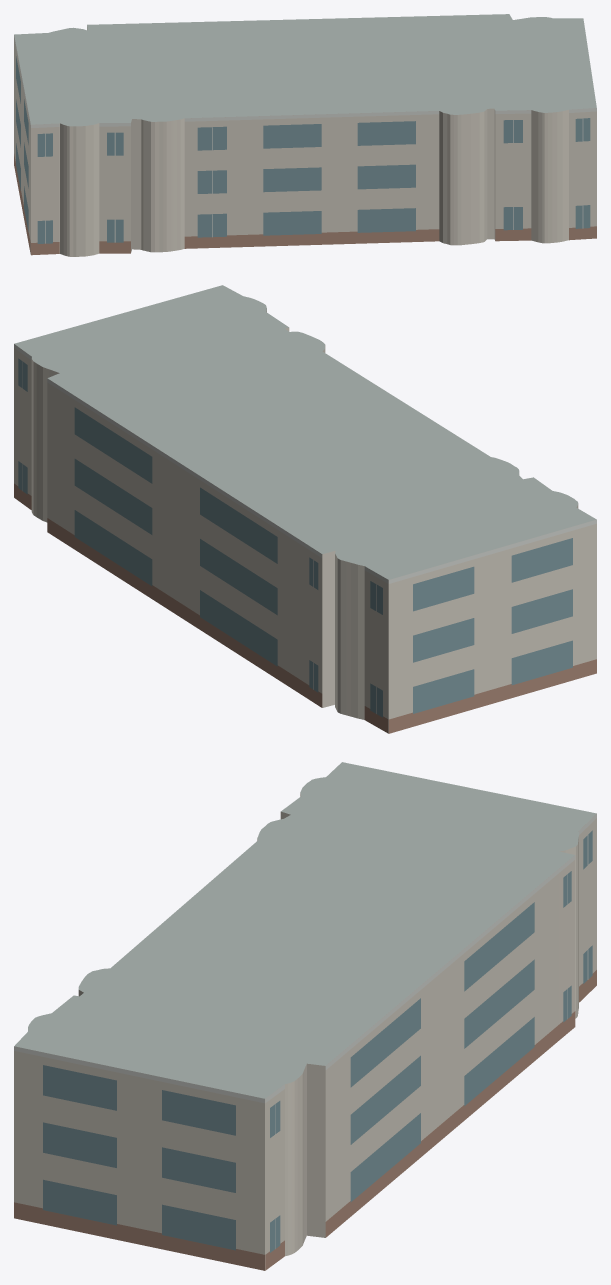
Rendered from survey-upis-32842960.glb.
The picture shows the model from 3 angles, top to bottom: view 1: azimuth 30°, elevation 25°; view 2: azimuth 150°, elevation 25°; view 3: azimuth 270°, elevation 25°; orthographic projection. The views are drawn at different scales.
Visible parts, largest first — view 1: survey-upis-32842960.tmp; view 2: survey-upis-32842960.tmp; view 3: survey-upis-32842960.tmp.
Boxes of the visible parts, box(x1,y1,x2,y2) form: survey-upis-32842960.tmp: box(14, 14, 596, 256); survey-upis-32842960.tmp: box(14, 285, 596, 733); survey-upis-32842960.tmp: box(14, 762, 596, 1270).
Bounding box in the file's own units: 38.42 × 9.15 × 28.1.
